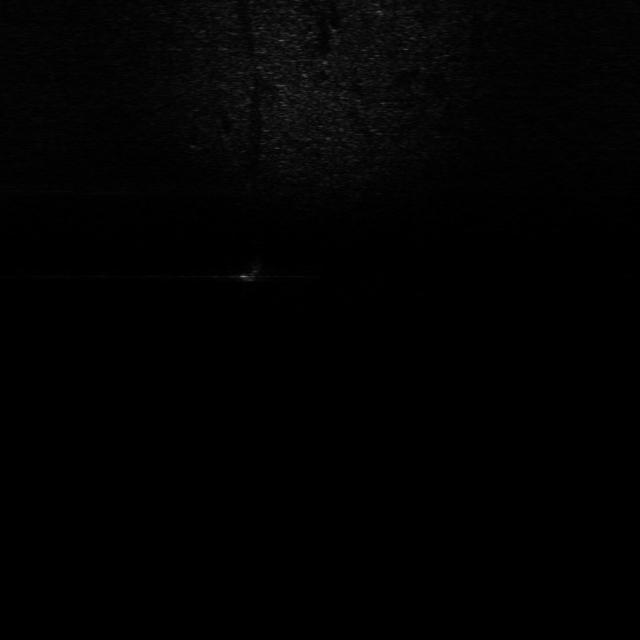human body: (241, 240, 267, 296)
